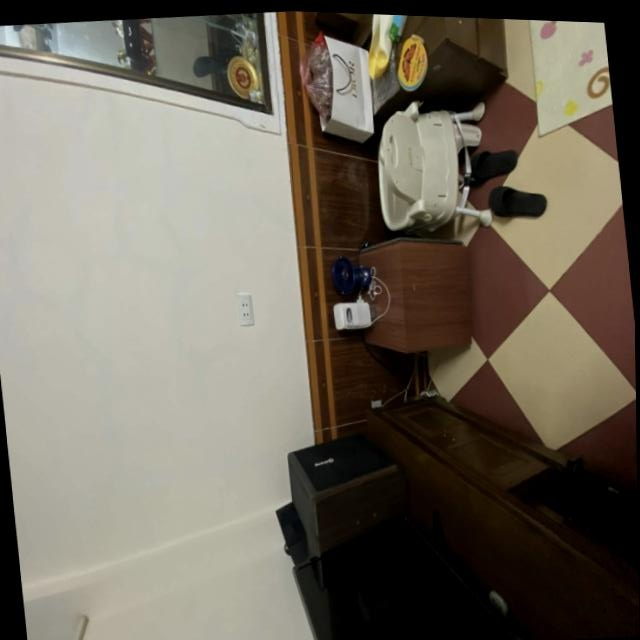outlet: (235, 293, 254, 327)
